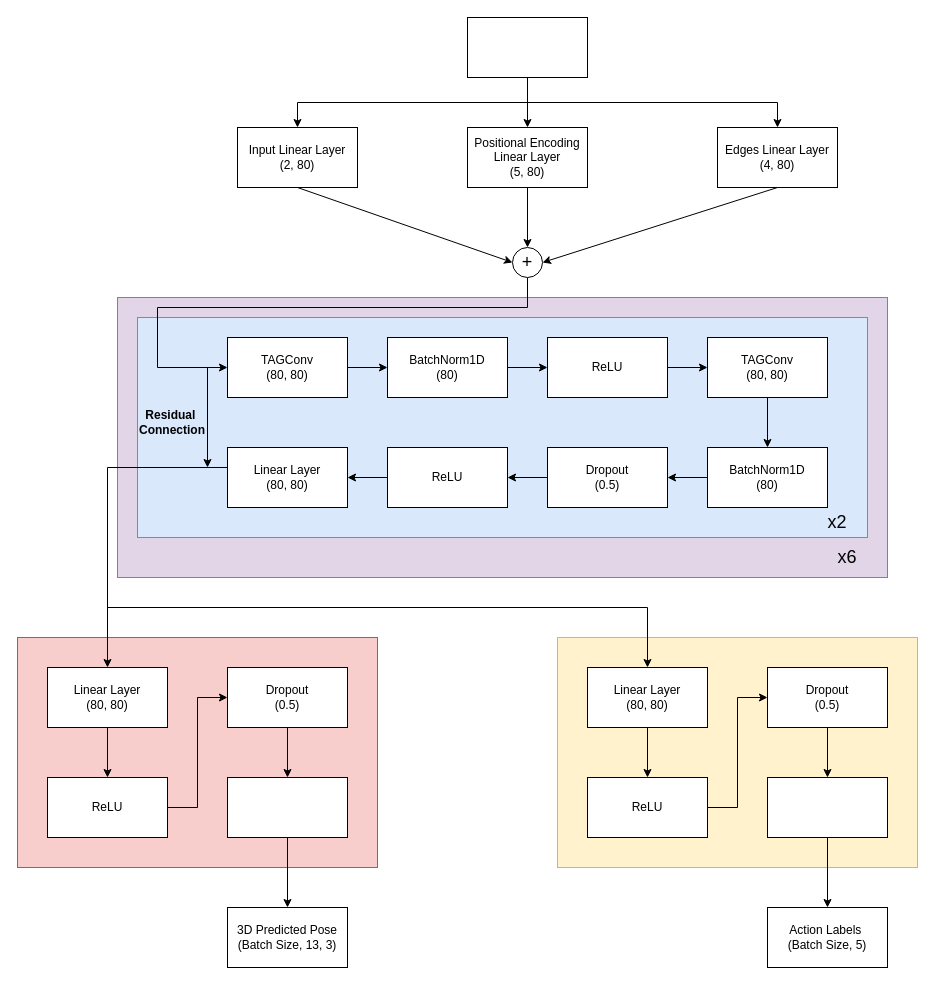
This 935x985 diagram has some shape labels left out. Each missing label, with the centre of its shape:
"Graph Dataset" goes at point (527, 47).
"Linear Layer (80, 3)" goes at point (287, 807).
"Linear Layer (80, 5)" goes at point (827, 807).
